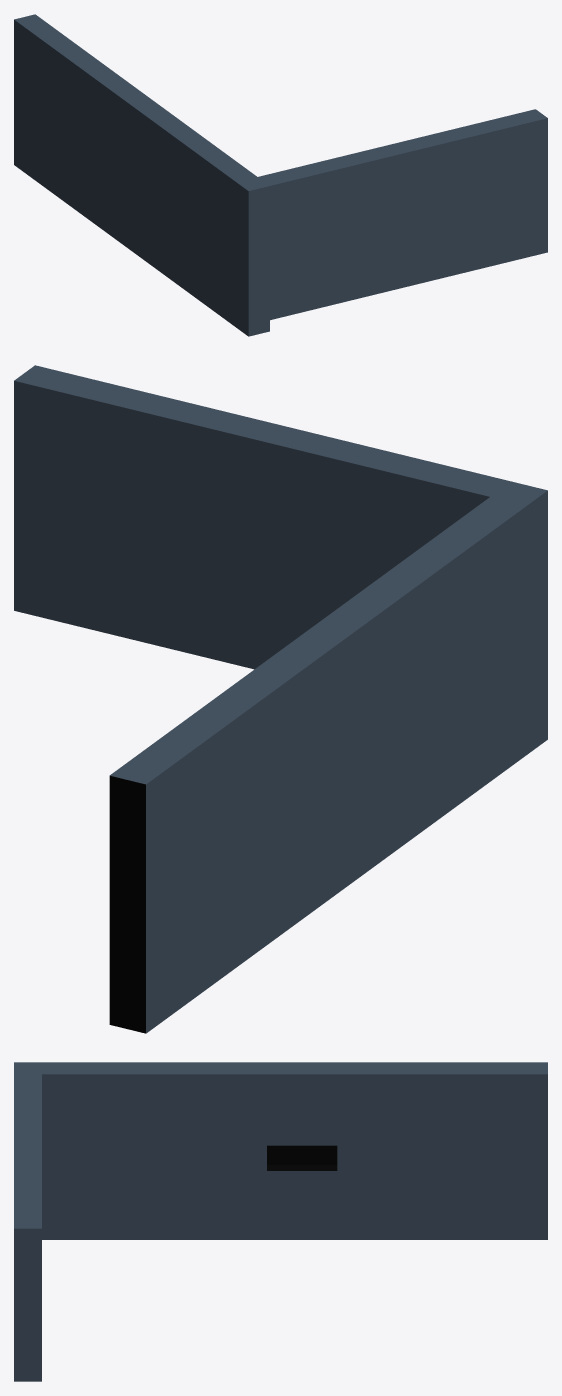
Rendered from Level1.fbx.
The picture shows the model from 3 angles, top to bottom: view 1: azimuth 30°, elevation 25°; view 2: azimuth 150°, elevation 25°; view 3: azimuth 270°, elevation 25°; orthographic projection. The views are drawn at different scales.
Visible parts, largest first — view 1: CubeGridToolOutput; view 2: CubeGridToolOutput; view 3: CubeGridToolOutput.
Boxes of the visible parts, x1,y1,x2,y2 form: CubeGridToolOutput: (14, 14, 547, 336); CubeGridToolOutput: (14, 365, 547, 1033); CubeGridToolOutput: (14, 1062, 547, 1381).
Bounding box in the file's own units: 700 × 950 × 325.
